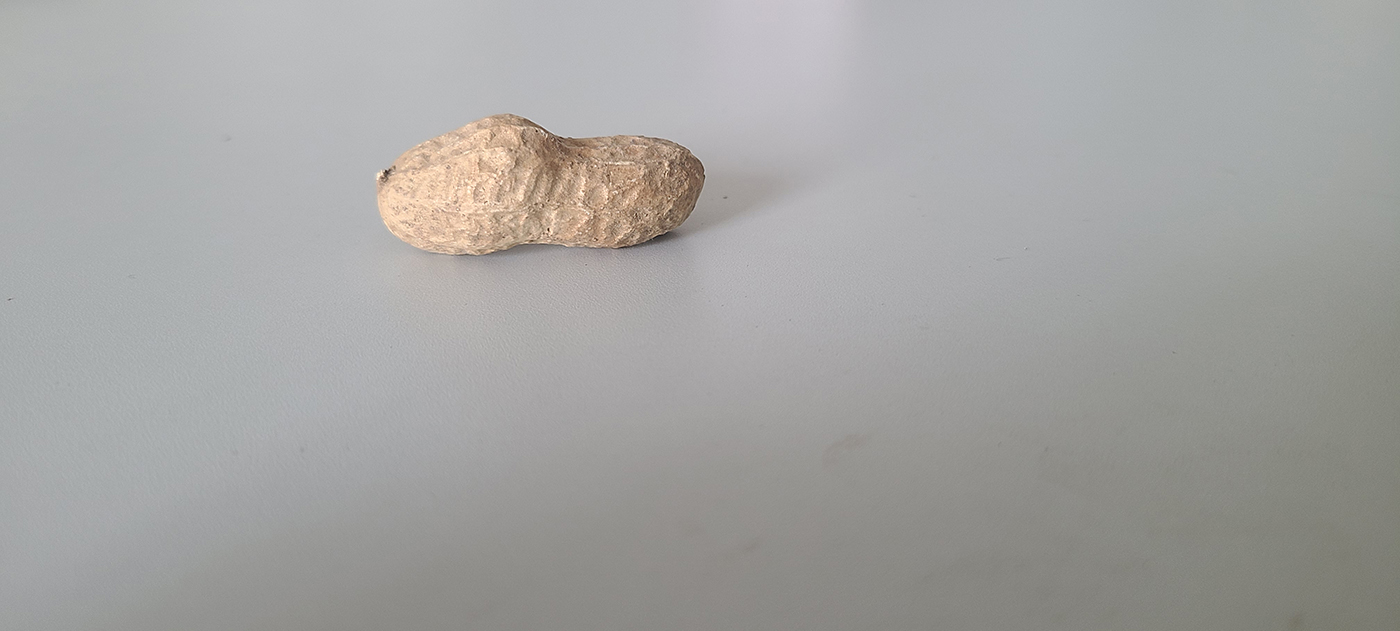h: (372, 114, 719, 259)
